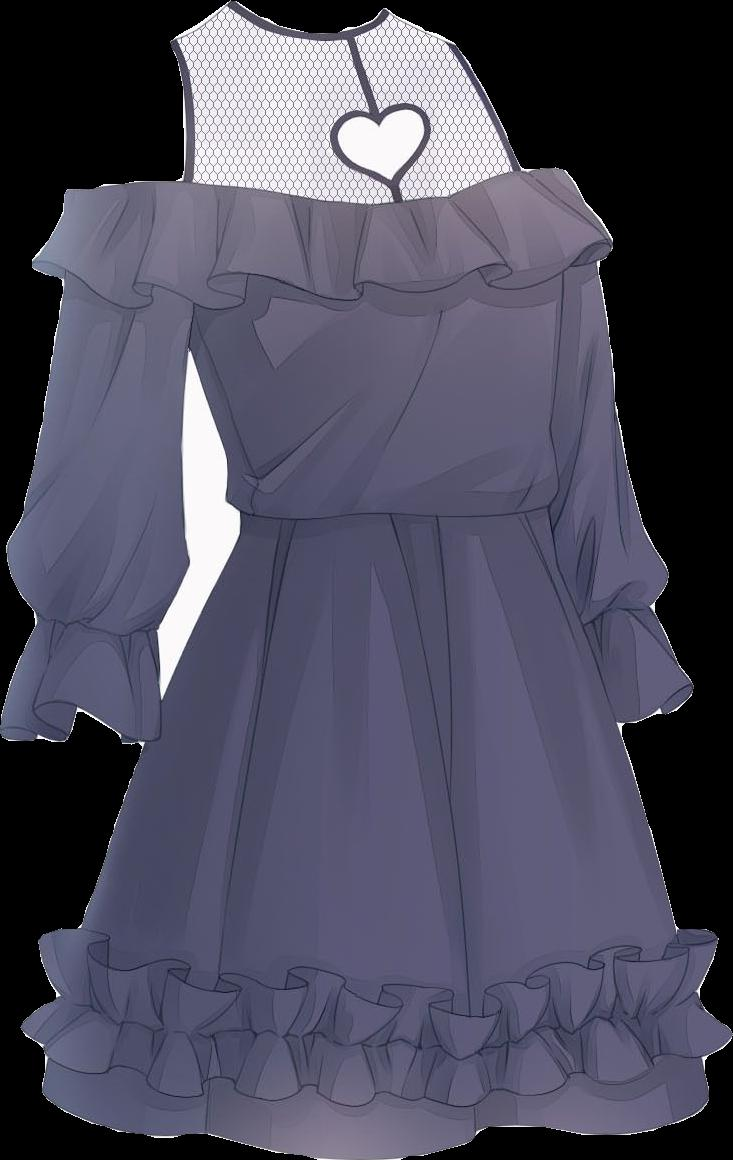Bodice: (170, 1, 612, 520)
Hemline: (12, 1018, 732, 1112), (37, 1084, 718, 1159)
Neckline: (182, 159, 530, 206), (229, 0, 394, 42)
Skirt: (21, 509, 732, 1159)
Sleeve: (0, 178, 192, 745)
Sleeveline: (177, 174, 205, 348), (31, 608, 160, 640)
Waistline: (33, 925, 716, 1019), (47, 987, 700, 1050), (190, 238, 617, 315), (239, 496, 551, 531), (30, 256, 199, 320)
